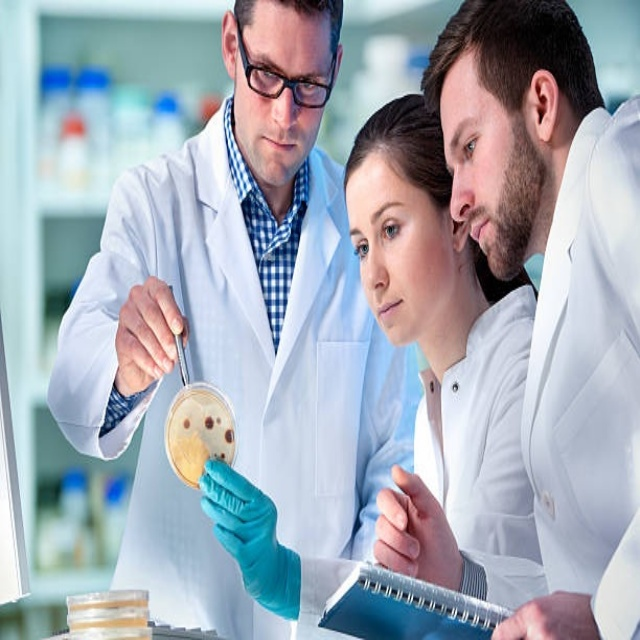Gafas: (236, 8, 339, 109)
Guantes: (199, 459, 302, 619)
Sin_gafas: (347, 190, 413, 265), (445, 93, 494, 184)
Sin_guantes: (375, 462, 464, 593), (115, 274, 189, 395), (492, 589, 600, 640)
Sin_mascara: (453, 201, 509, 273), (254, 119, 303, 182), (366, 282, 414, 342)
